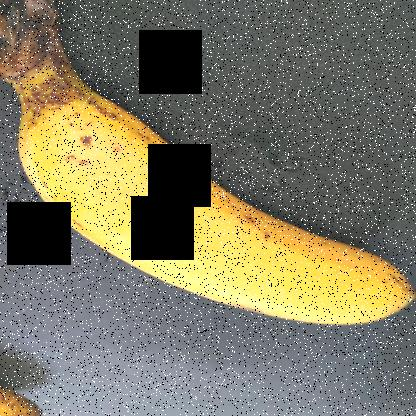freshripe: (8, 76, 402, 348)
